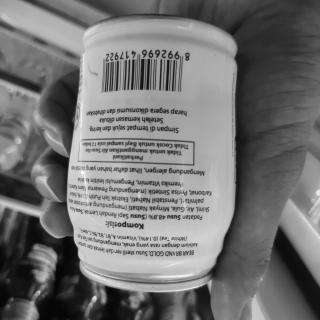alumunium_can: (56, 10, 248, 312)
